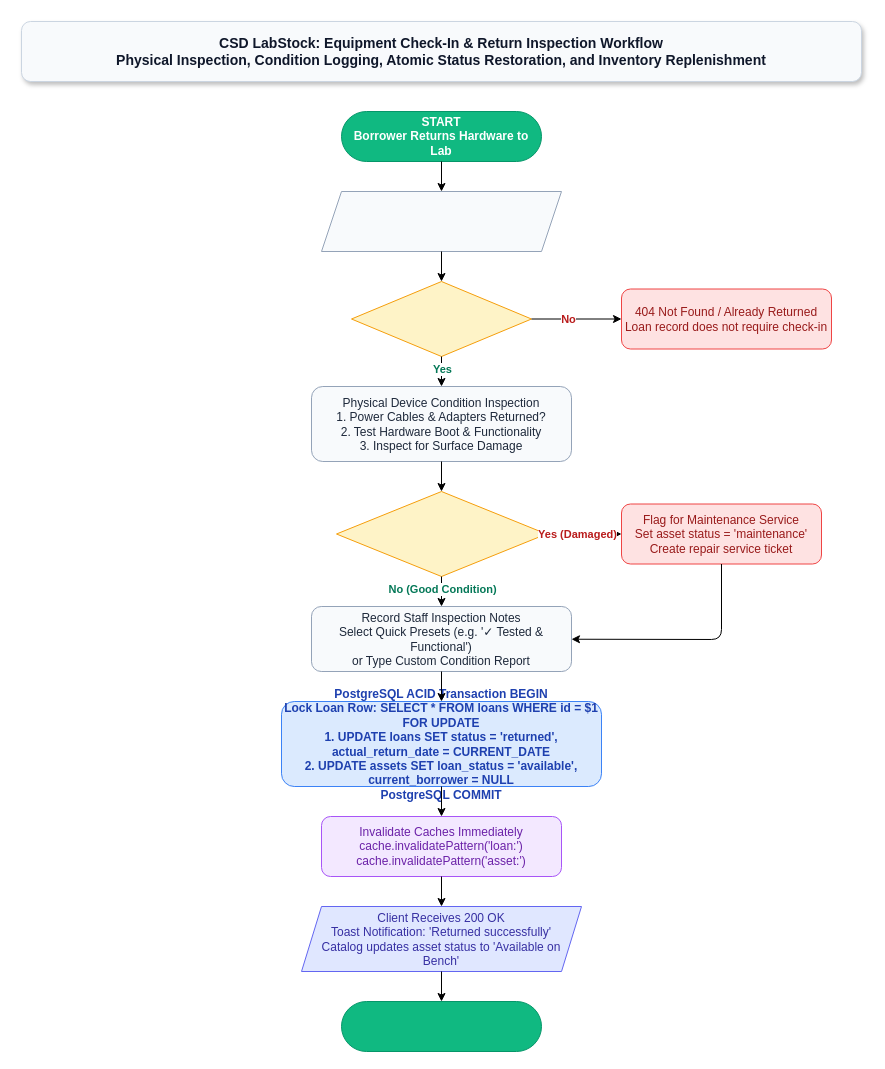
Image size: 885x1069. Some labels were removed from this diagram. Each missing label, with the centre of its shape:
Active Loan Found?: the point at 441,318
Device Damaged or Needs Maintenance?: the point at 441,533
Lookup Active Loan Record Search Borrower Name / Scan Serial / ID: the point at 441,221
SUCCESS Equipment Restored to Active Stock: the point at 441,1026
